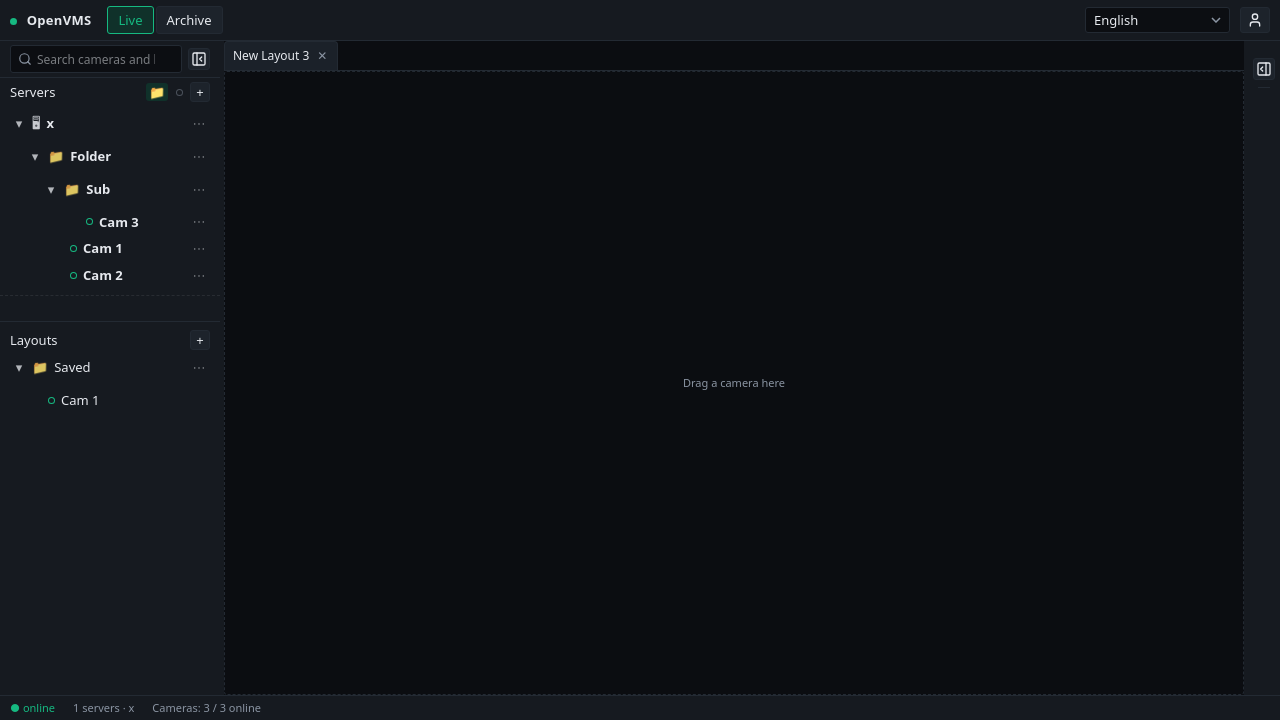
videowall parity on the Archive tab (spec 2026-10-18) › T6: double click on the layout opens the layout tab on Archive
Expected: the list with class "tree" is shown, [0,106,220,293]
Expected: the text "Cam 1" below "Cam 3" is shown, [83,239,123,257]
Click the button "Archive" at (189, 20), box [156,6,223,34]
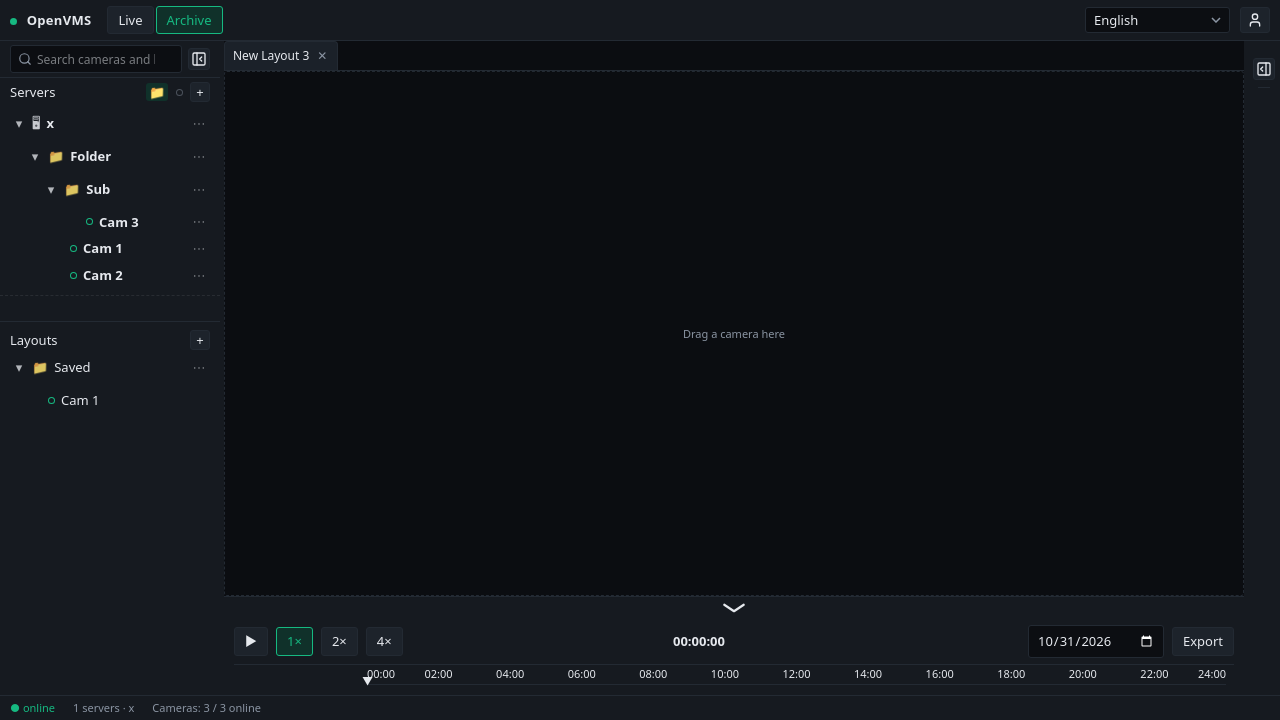
Result: the element with class "arquivo-stage" is shown
Double-click the text "Saved" at (72, 367), box [54,358,91,376]
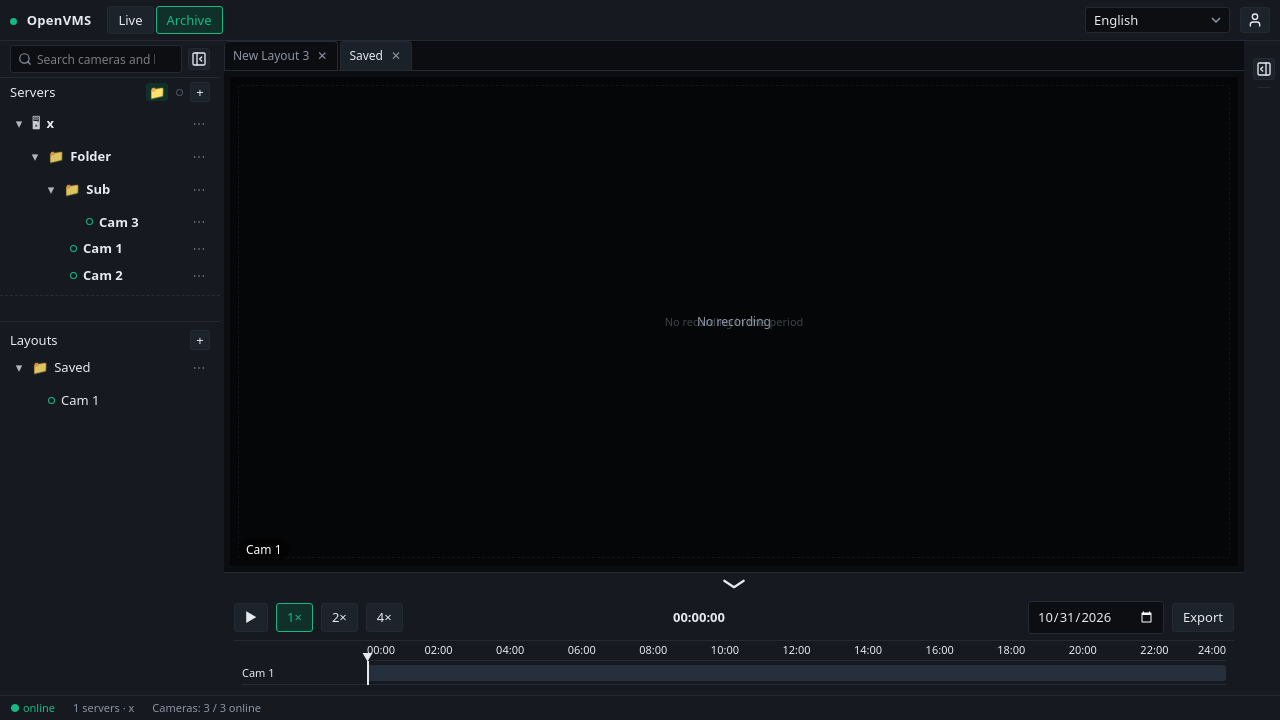
Result: the element with class "stage-tab" shows "Saved" at [349,47,383,64]
